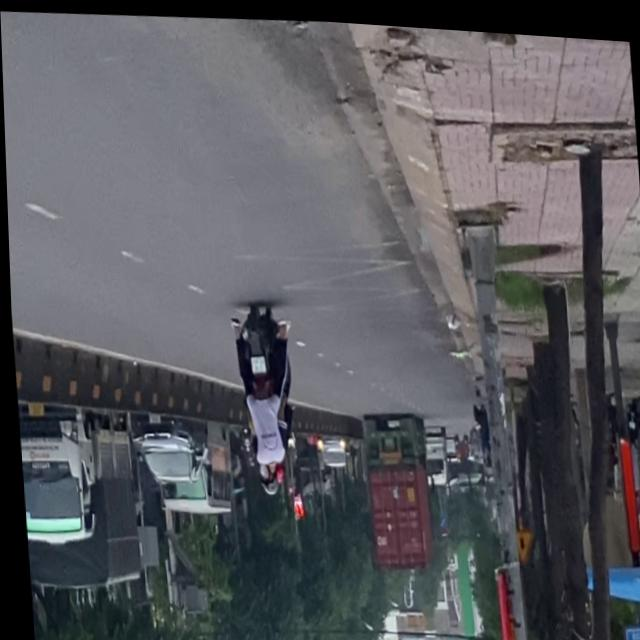helmet: (255, 462, 275, 494)
licenseplate: (225, 295, 298, 496)
nohelmet: (247, 353, 263, 371)
